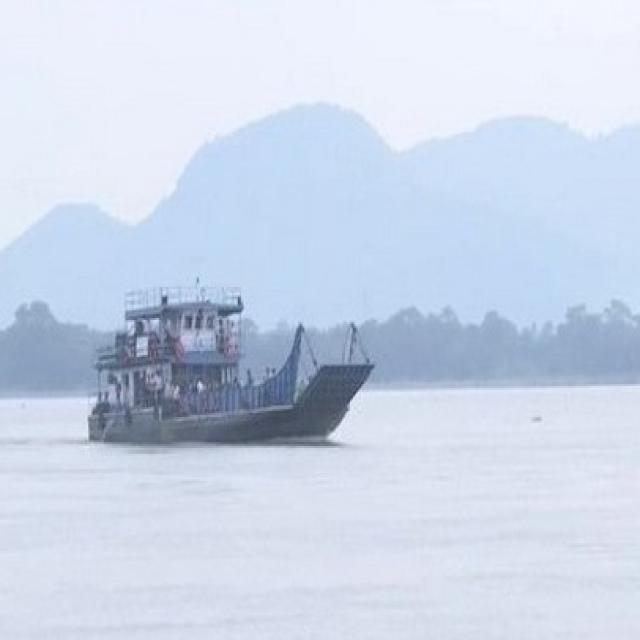fishing boat: (93, 280, 387, 448)
